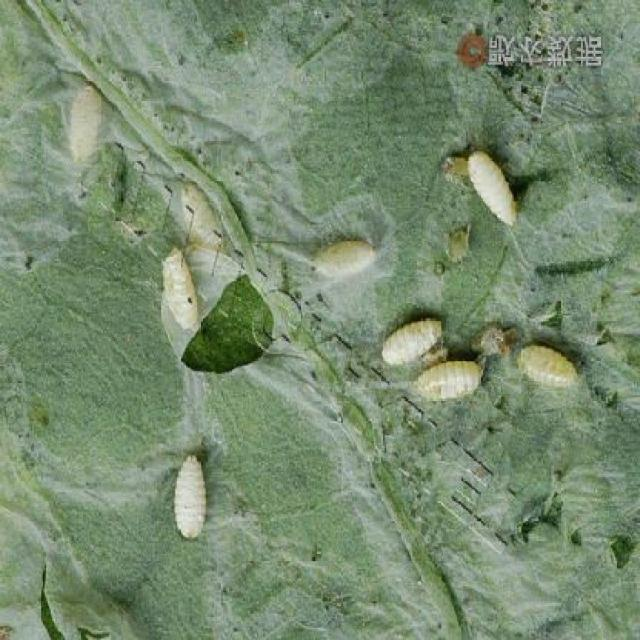whorl-maggot: (465, 143, 529, 231), (165, 445, 217, 549), (416, 351, 498, 402), (519, 334, 583, 398), (374, 309, 444, 366), (312, 237, 383, 291), (65, 77, 102, 171), (160, 247, 199, 329)
